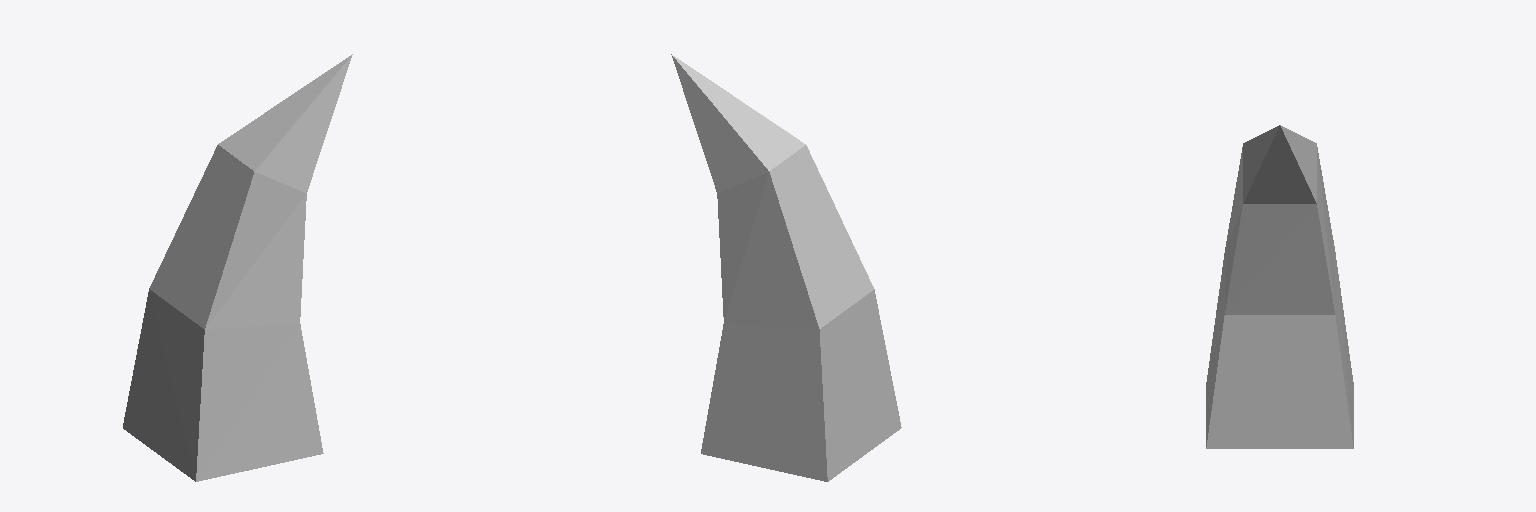
Rendered from skeletal_000005.obj.
The picture shows the model from 3 angles: view 1: azimuth 30°, elevation 25°; view 2: azimuth 150°, elevation 25°; view 3: azimuth 270°, elevation 25°; orthographic projection.
Parts seen in each view (by area): view 1: Cube; view 2: Cube; view 3: Cube.
Boxes of the visible parts, <box> form: Cube: <box>123,54,352,481</box>; Cube: <box>671,54,901,481</box>; Cube: <box>1206,125,1353,448</box>.
Size of the model in its own units: 3.03 by 5.34 by 2.